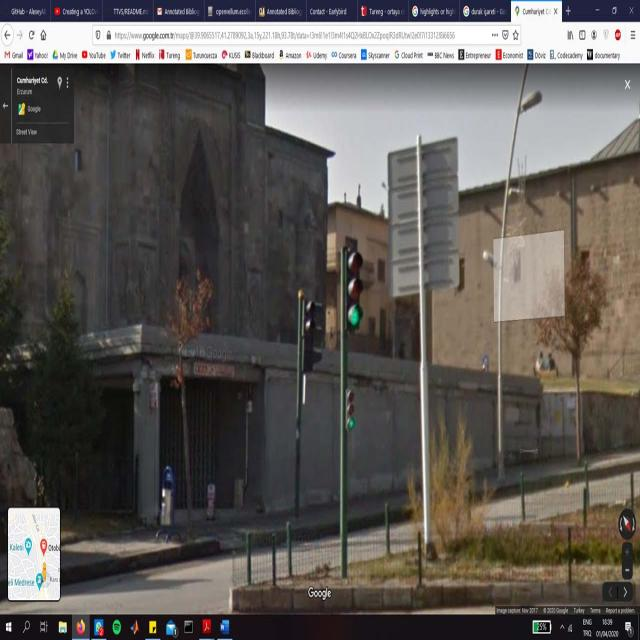yesil: (345, 248, 361, 331), (347, 389, 355, 432)
